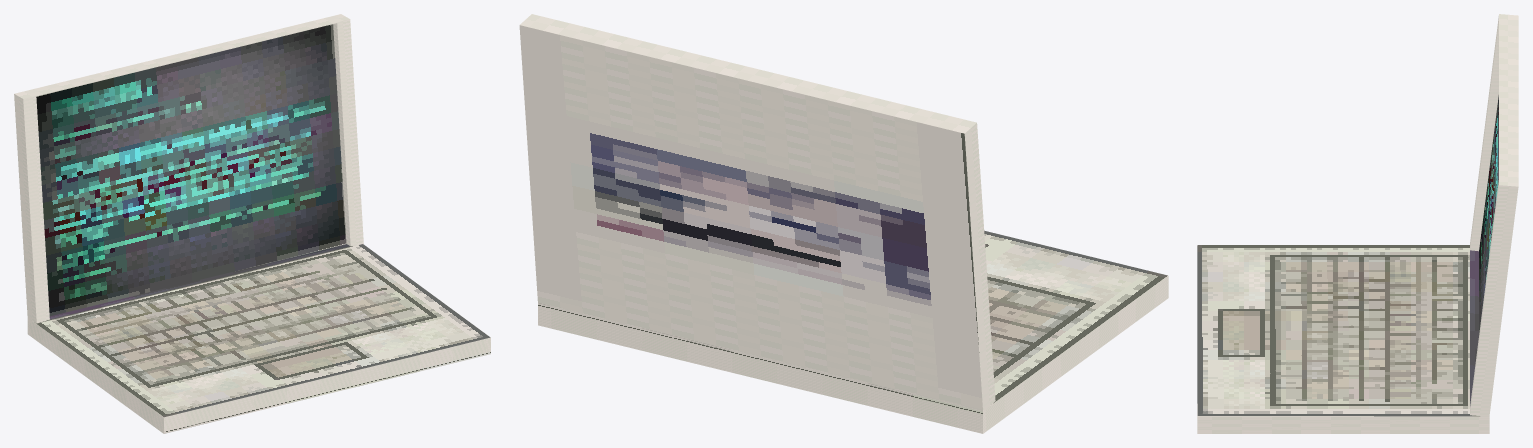
File: notebook_no_estilo_de_ps1.glb
The picture shows the model from 3 angles, left to right: view 1: azimuth 30°, elevation 25°; view 2: azimuth 150°, elevation 25°; view 3: azimuth 270°, elevation 25°; orthographic projection. The views are drawn at different scales.
Parts seen in each view (by area): view 1: Object_2; view 2: Object_2; view 3: Object_2.
Part boxes in pixels (x1,y1,x2,y2): Object_2: (14, 14, 490, 433); Object_2: (519, 14, 1168, 433); Object_2: (1197, 14, 1518, 433).
Bounding box in the file's own units: 2 × 1.36 × 1.59.
1 material, 1 textured.
